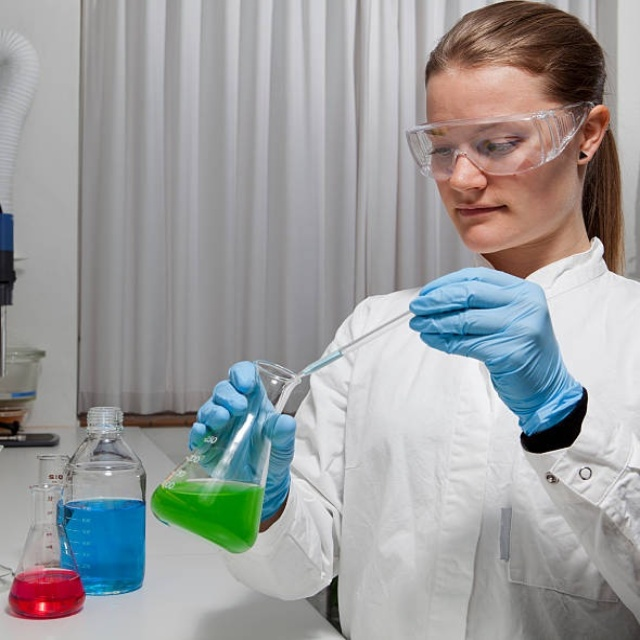Gafas: (402, 101, 592, 181)
Guantes: (413, 266, 585, 432), (184, 356, 302, 524)
Sin_mascara: (448, 197, 514, 244)
